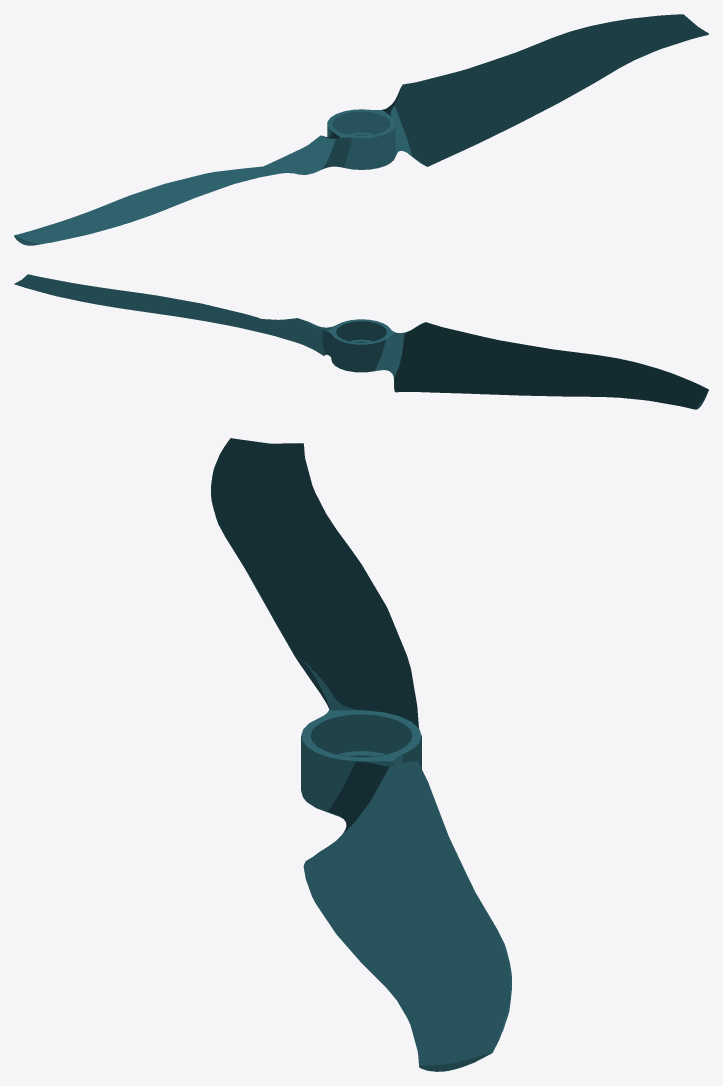
File: default_propeller_3x1.5_cw.dae
The picture shows the model from 3 angles, top to bottom: view 1: azimuth 30°, elevation 25°; view 2: azimuth 150°, elevation 25°; view 3: azimuth 270°, elevation 25°; orthographic projection. The views are drawn at different scales.
Parts seen in each view (by area): view 1: node0; view 2: node0; view 3: node0.
Boxes of the visible parts, x1=… form: node0: x1=14, y1=14, x2=708, y2=245; node0: x1=14, y1=274, x2=708, y2=409; node0: x1=211, y1=438, x2=511, y2=1071.
Size of the model in its own units: 75.97 by 15.53 by 5.97.
